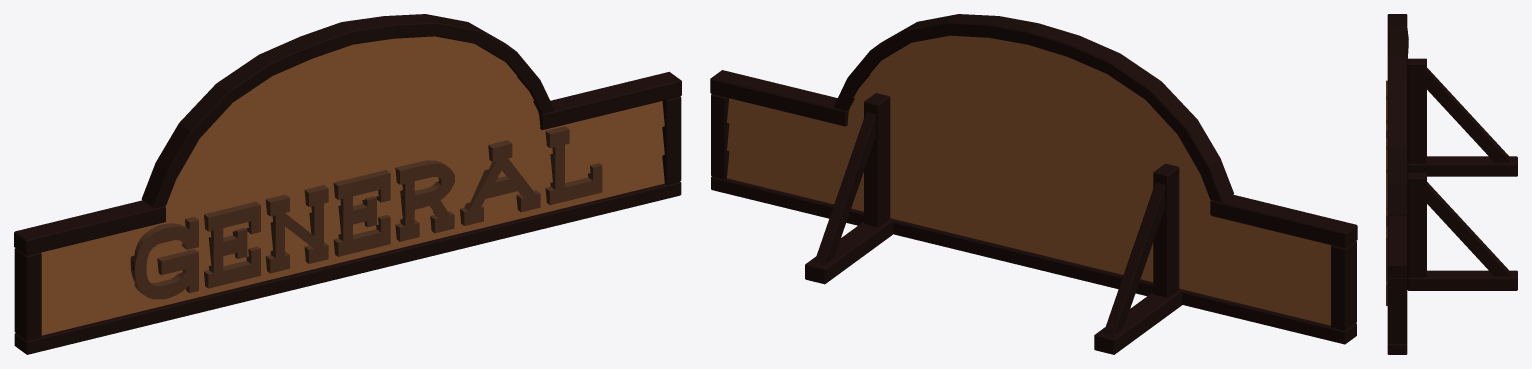
The model's file is ww_general_sign_a.glb.
3 renders of one model, left to right at view 1: azimuth 30°, elevation 25°; view 2: azimuth 150°, elevation 25°; view 3: azimuth 270°, elevation 25°, orthographic. The views are drawn at different scales.
Parts seen in each view (by area): view 1: General_Sign_B; view 2: General_Sign_B; view 3: General_Sign_B.
Boxes of the visible parts, x1,y1,x2,y2 form: General_Sign_B: [14, 14, 681, 354]; General_Sign_B: [710, 14, 1357, 354]; General_Sign_B: [1386, 14, 1517, 354].
Size of the model in its own units: 10.56 by 3.75 by 2.34.
